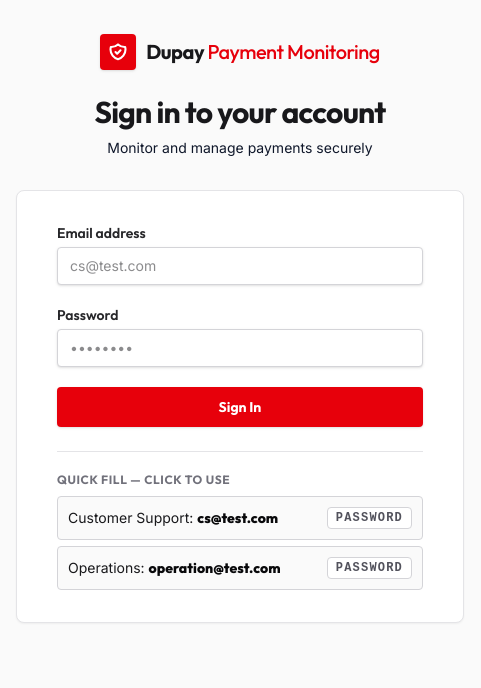
login page › shows validation error for invalid email
Type "invalid-email" into the field labelled "Email address" at (240, 266), box [57,246,423,284]
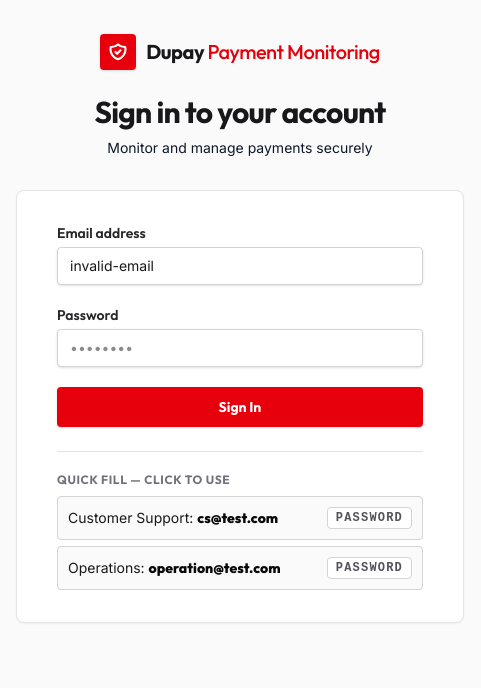
Type "password123" into the password field labelled "Password" at (240, 348), box [57,328,423,366]
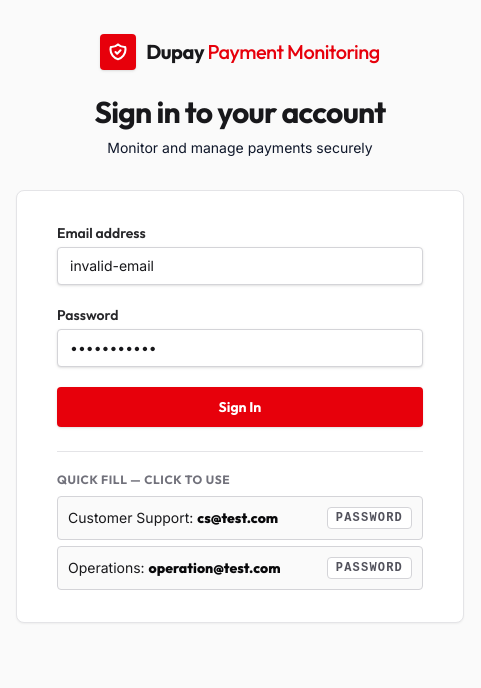
Submit the form "Sign In", box [57,222,423,426]
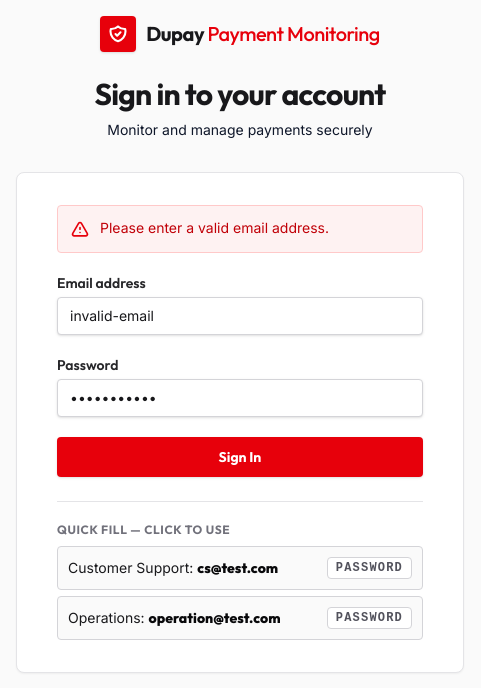
Now the text "Please enter a valid email address." is shown, box [100,218,329,238]
